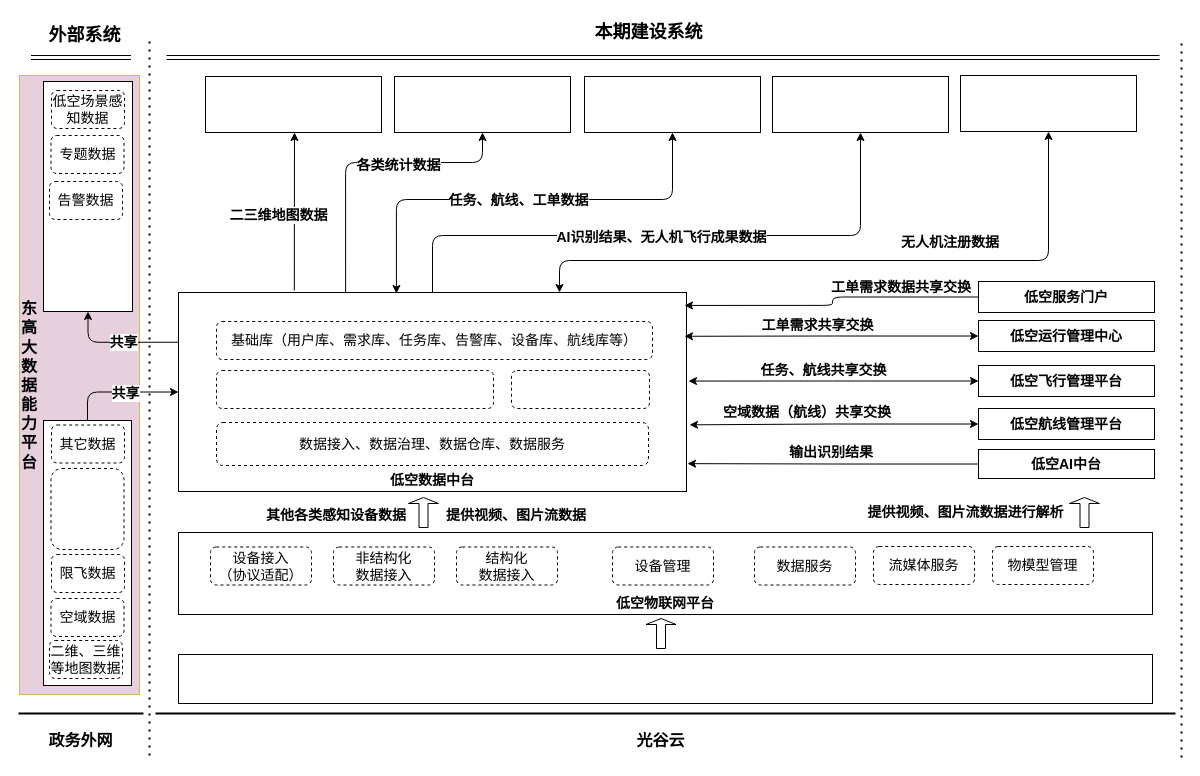
The diagram is 1200 pixels wide and 776 high, and some of its shapes have lost their labels. Here are the shapes that lost their labels. From the top down, the centre of each, then its label:
[293,104]: 二三维地理平台
[482,104]: 低空态势感知中心
[672,104]: 低空资源共享中心
[860,104]: 低空监测预警中心
[1048,103]: 低空空域管理中心
[355,389]: 专题库（治安、交通、城管、森林防火等）
[580,389]: 空域库
[87,509]: POI 点位标识数据
[665,679]: 低空物联感知设备（不同品牌无人机、载荷、机库）
